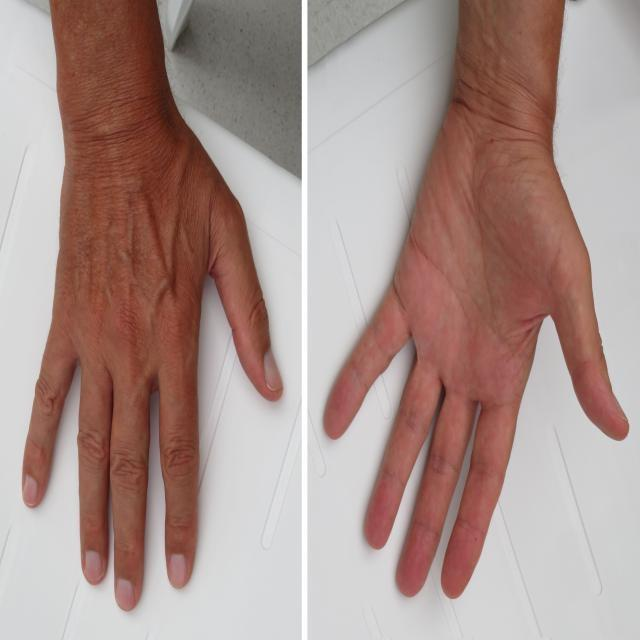no_apron: (297, 125, 635, 600), (22, 98, 294, 620)
